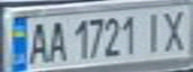1: (69, 16, 90, 61), (121, 11, 142, 56)
2: (103, 14, 124, 58)
7: (84, 15, 106, 60)
A: (24, 19, 51, 66), (45, 17, 69, 64)
I: (139, 8, 169, 54)
X: (157, 6, 193, 53)
